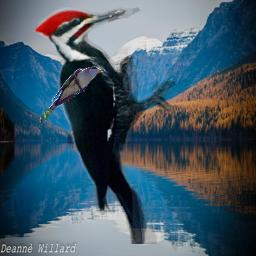Cuckoo: (40, 66, 105, 122)
Woodpecker: (35, 4, 176, 244)
